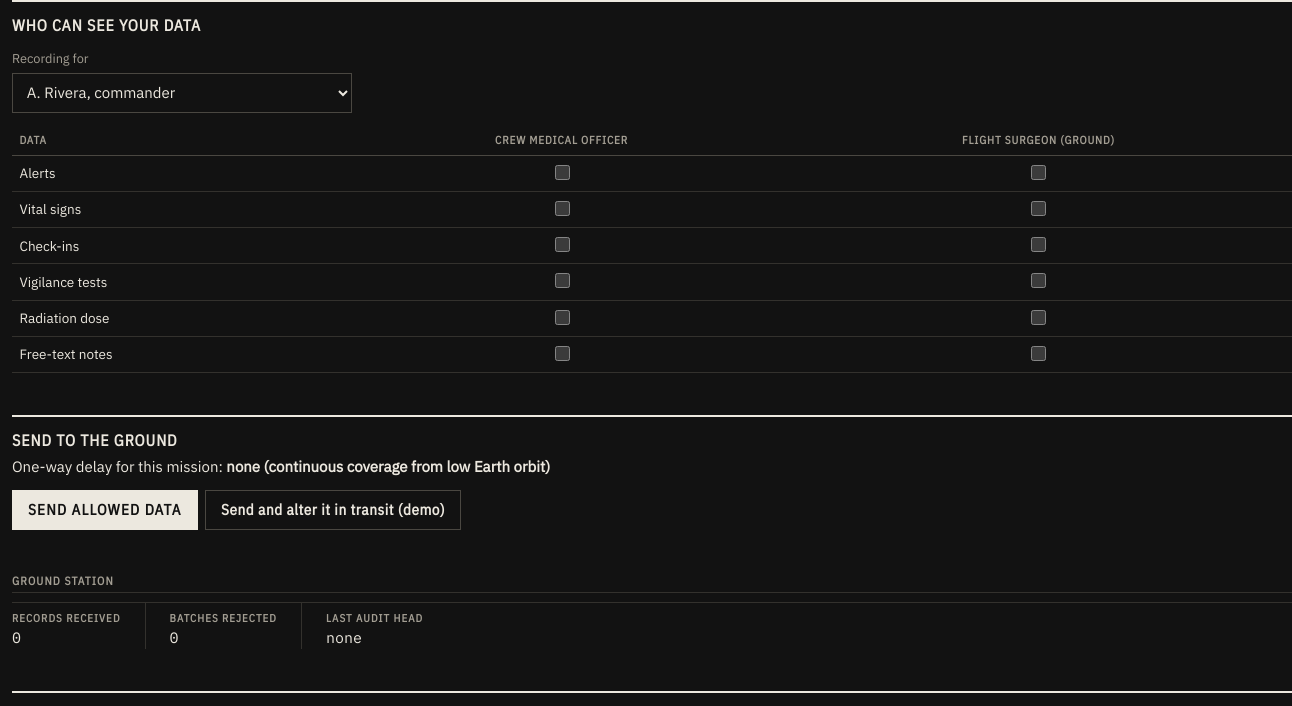
it: privacy and sync › starts with nothing shared and sends nothing
Click the button "Send allowed data" at (105, 510), box 12,490 -> 198,530
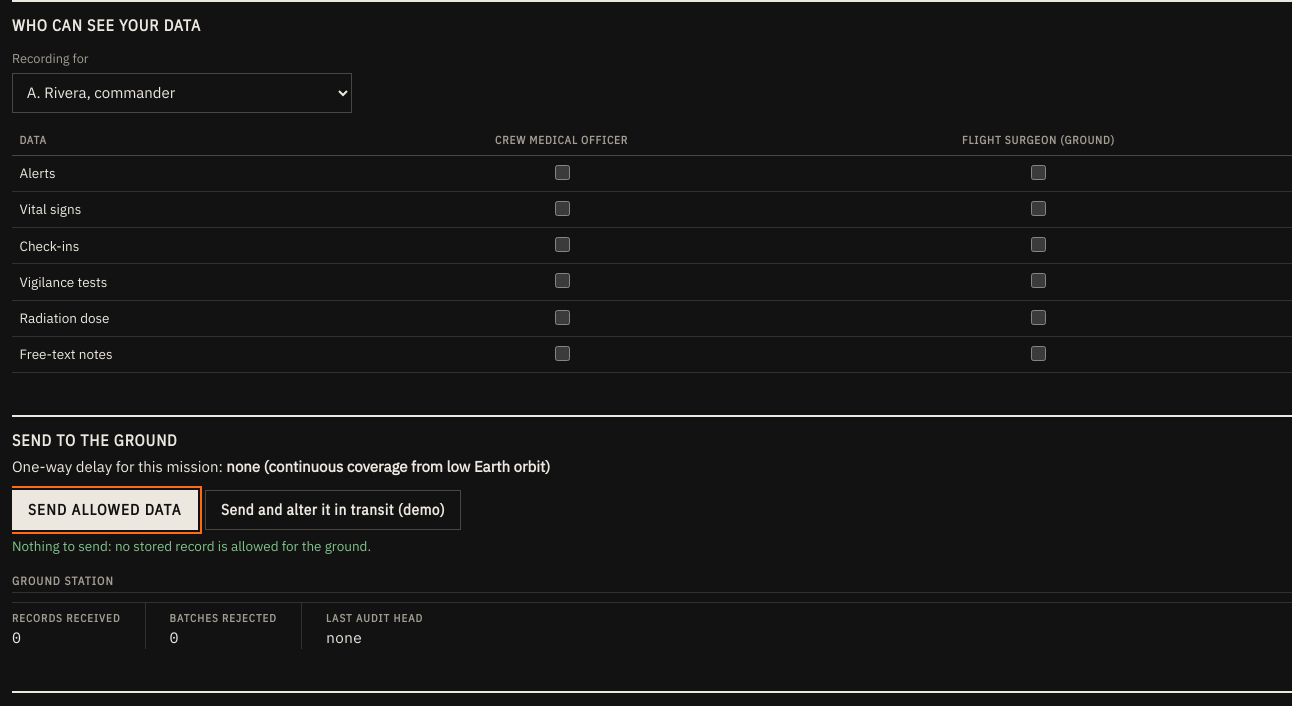
Expected: the text "0" below "Records received" is shown, 12,628 -> 21,647
Expected: the text "Nothing to send: no stored record is allowed for the ground." is shown, 12,536 -> 371,554
